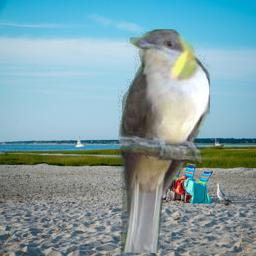Cuckoo: (116, 29, 211, 253)
